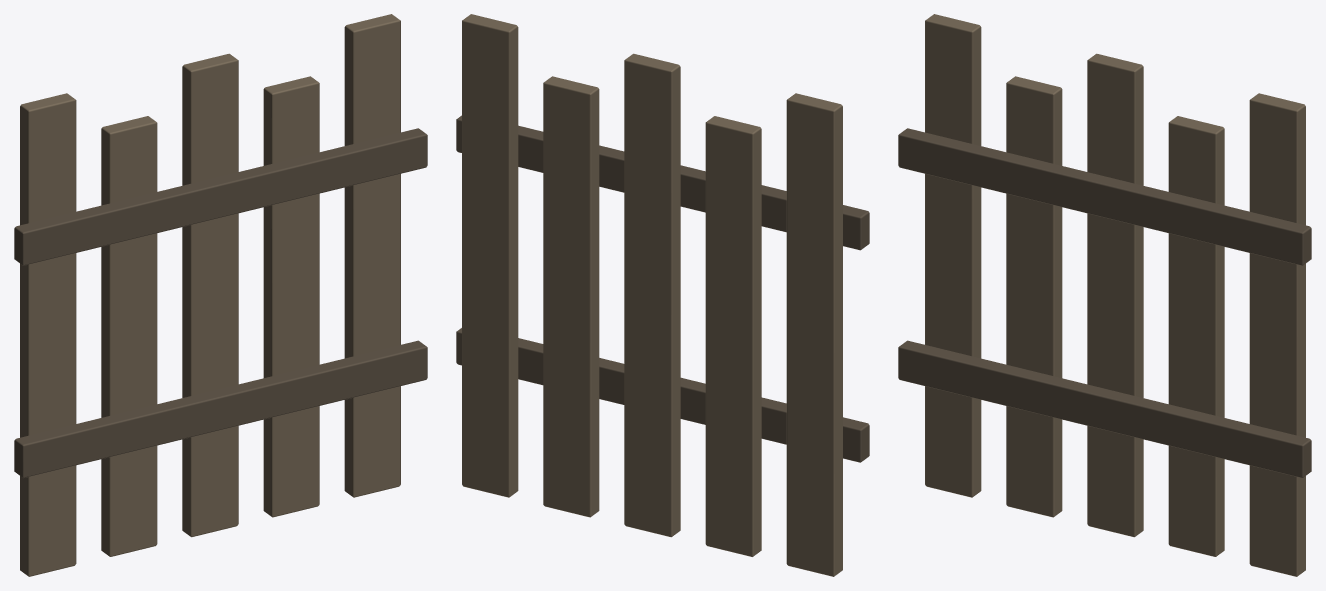
Rendered from ghost-town-wall-boundary.0c6e9783.glb.
The picture shows the model from 3 angles, left to right: view 1: azimuth 30°, elevation 25°; view 2: azimuth 150°, elevation 25°; view 3: azimuth 330°, elevation 25°; orthographic projection.
Parts seen in each view (by area): view 1: body; view 2: body; view 3: body.
Boxes of the visible parts, <box> form: body: <box>14,14,427,576</box>; body: <box>456,14,869,576</box>; body: <box>898,14,1311,576</box>.
Bounding box in the file's own units: 1 × 1.1 × 0.085.
